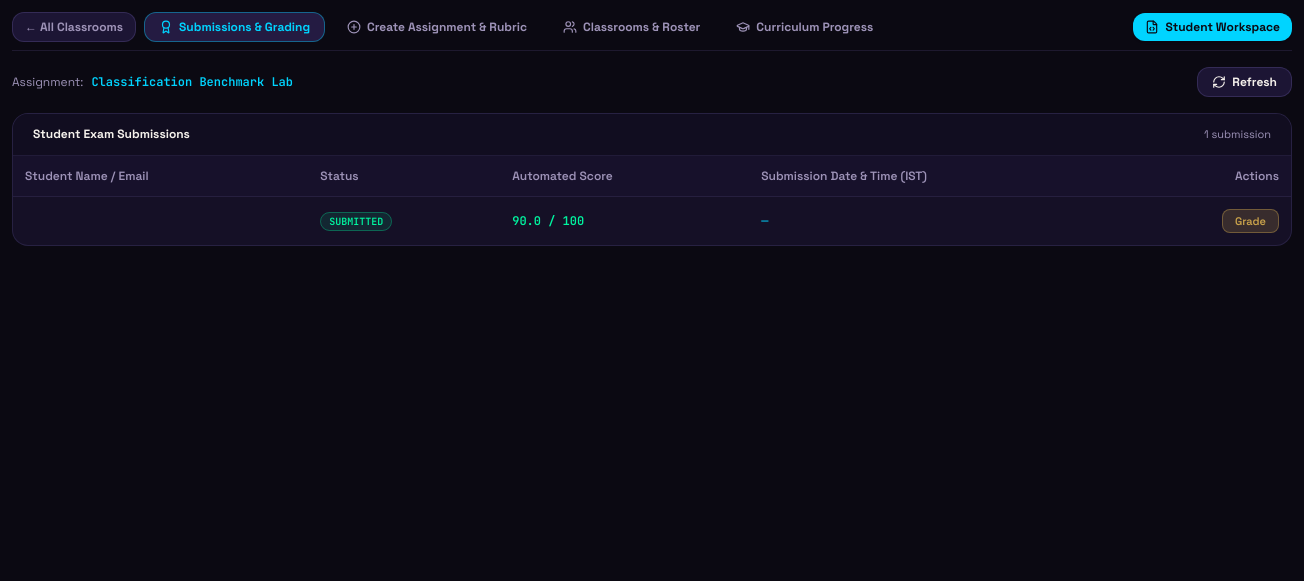
Test: Simplified Classroom & Assignment Flow › Part 4: Curriculum Progress Tab Displays Created Assignments › shows created assignments and omits old generic lessons in Curriculum Progress
// Switch to Curriculum Progress tab
Click the button "Curriculum Progress" at (805, 27), box [722,13,887,41]
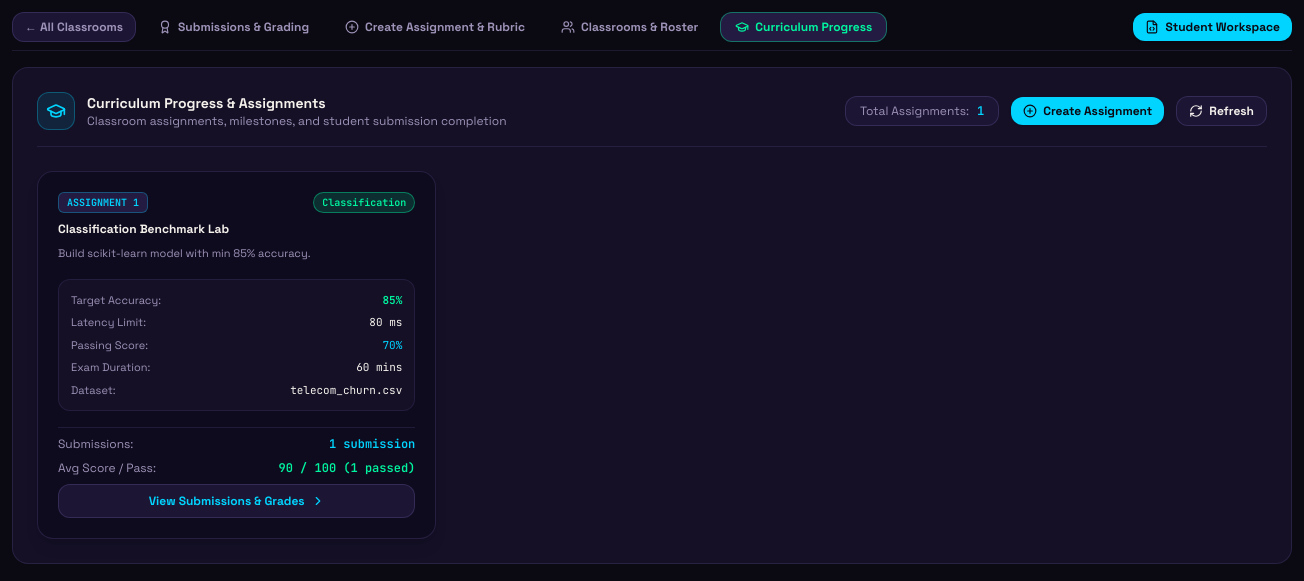
Check: the text "Build scikit-learn model with min 85% accuracy." is shown, box [58,246,310,260]
Check: the text "85%" is shown, box [382,292,402,308]
Check: the text "80 ms" is shown, box [369,314,402,331]
